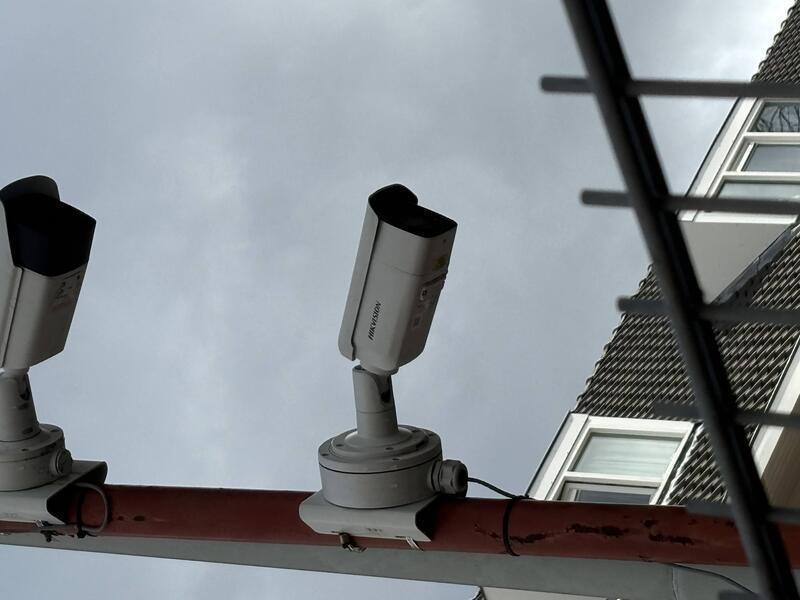bullet: (194, 329, 428, 455), (218, 0, 428, 91)
